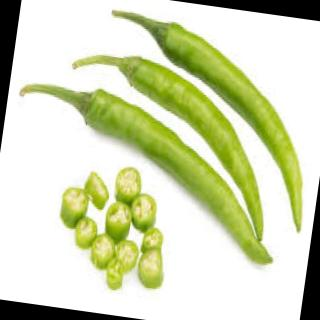Cabai Hijau: (20, 55, 273, 268), (133, 17, 320, 231), (132, 223, 171, 294)
